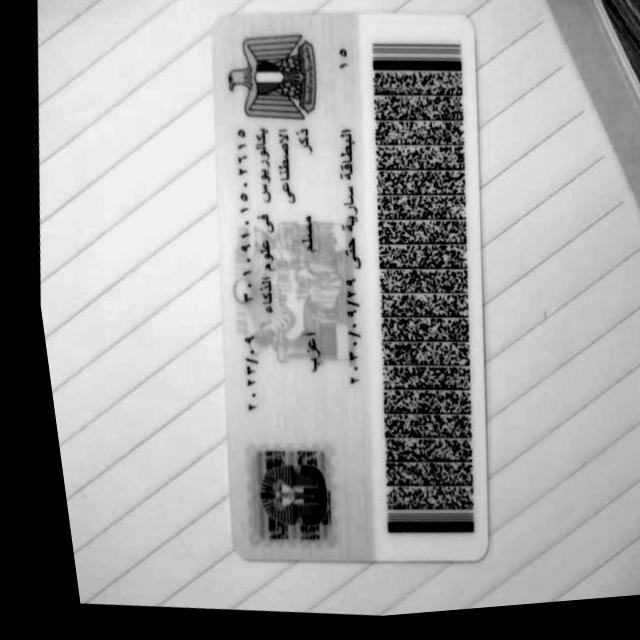back: (213, 13, 485, 560)
